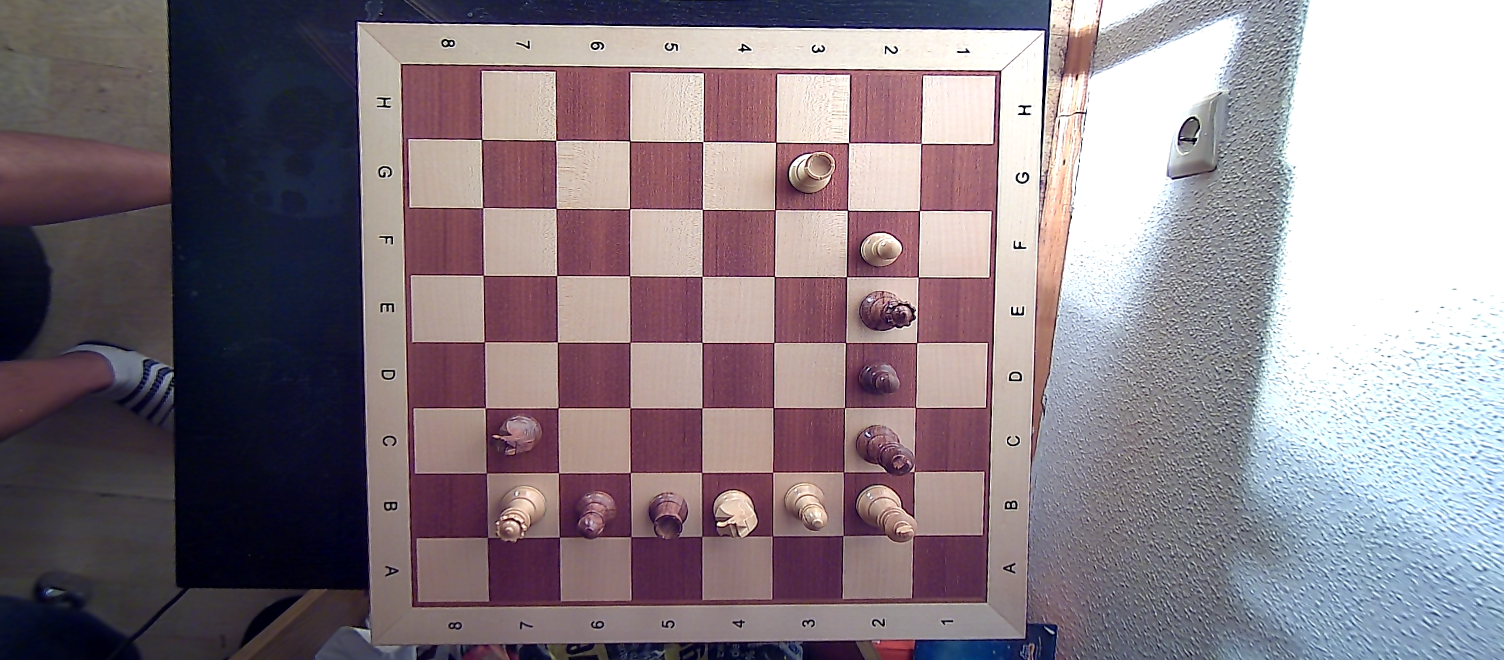black-bishop: (569, 487, 618, 539)
black-king: (850, 420, 916, 477)
black-knight: (489, 410, 546, 460)
black-pawn: (857, 357, 904, 403)
black-queen: (856, 284, 918, 339)
black-rook: (642, 489, 692, 542)
white-bishop: (779, 480, 833, 537)
white-king: (851, 480, 920, 546)
white-knight: (705, 484, 763, 542)
white-pawn: (858, 227, 902, 269)
white-queen: (495, 484, 546, 542)
white-rook: (784, 147, 839, 197)
